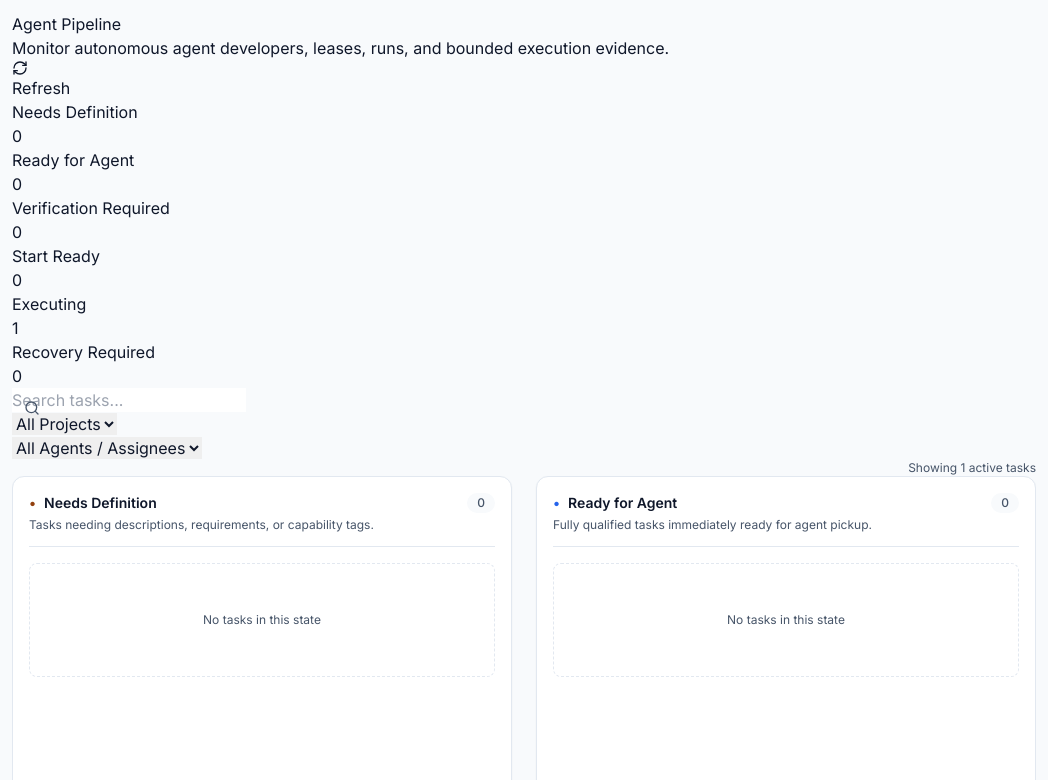
Scenario: AgentPipelinePage bounded run evidence › removes cached pipeline data after an authorization failure
Click the button "Refresh": [41, 80] box [12,60,70,100]
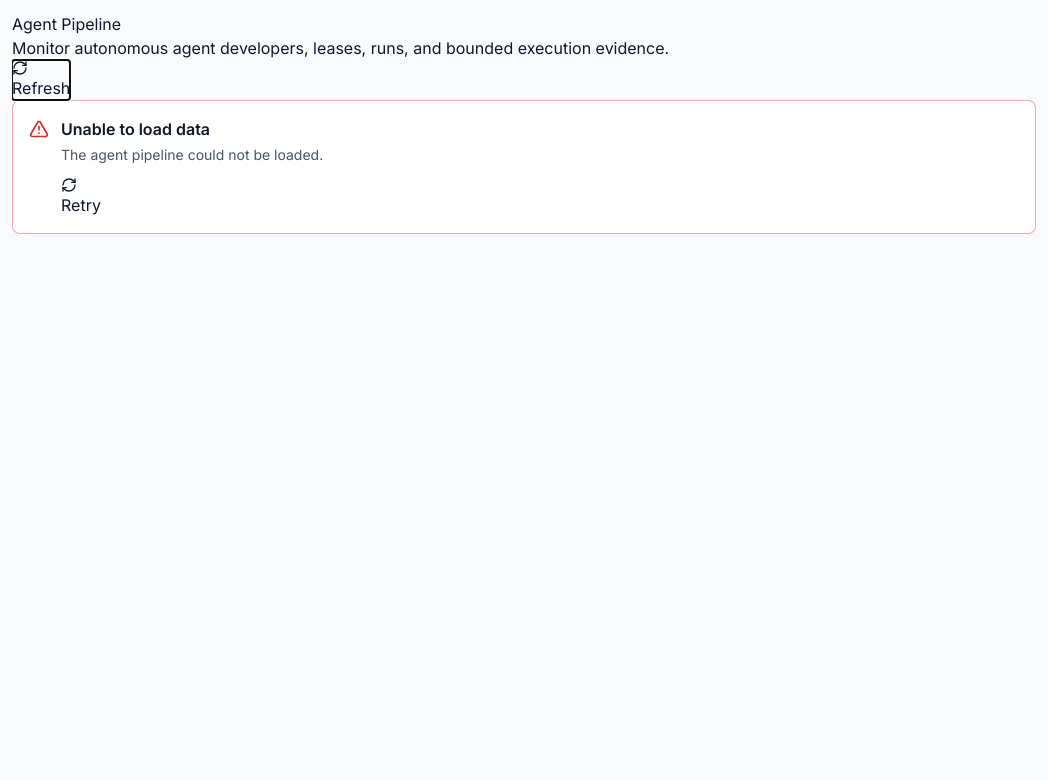
Check: the text "The agent pipeline could not be loaded." is shown, box [61,146,323,163]
